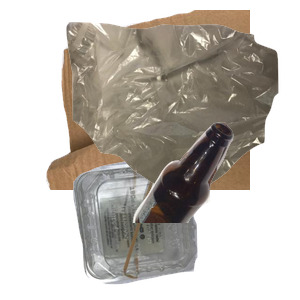cardboard: (43, 10, 283, 190)
glass: (130, 120, 300, 300)
plastic: (71, 154, 300, 300)
trash: (64, 20, 300, 200)
